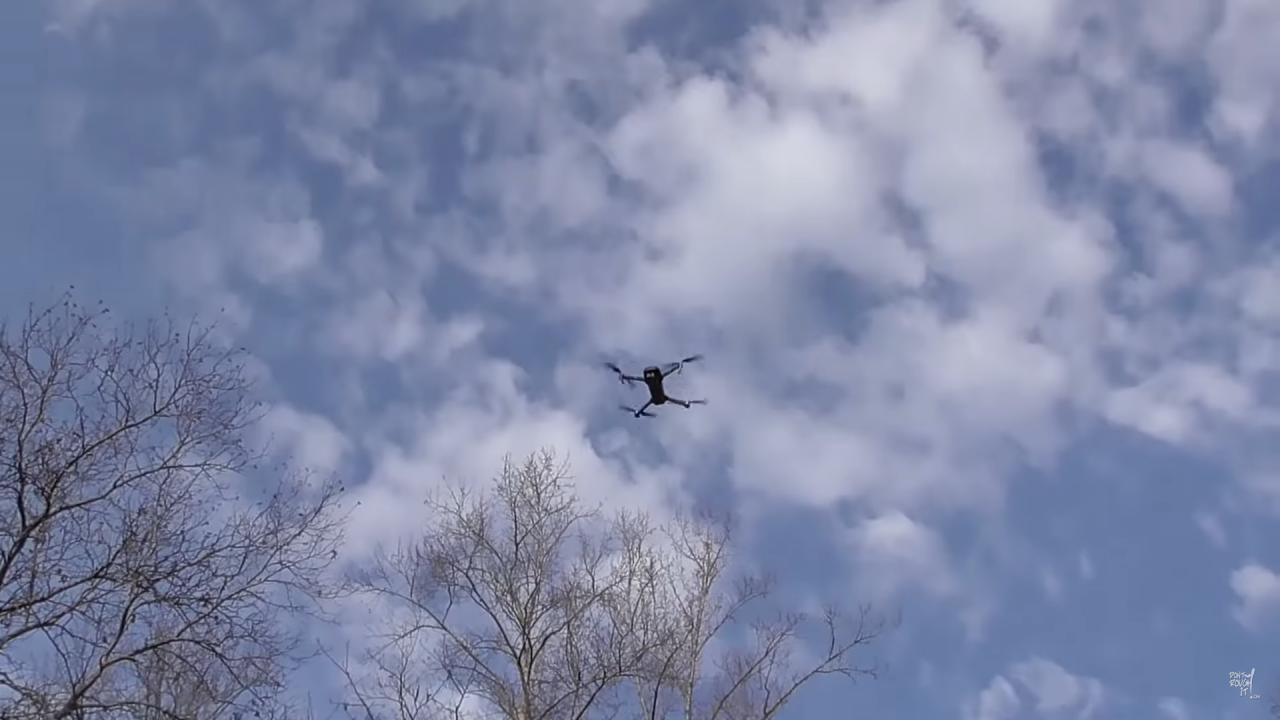Drone: (592, 344, 716, 428)
